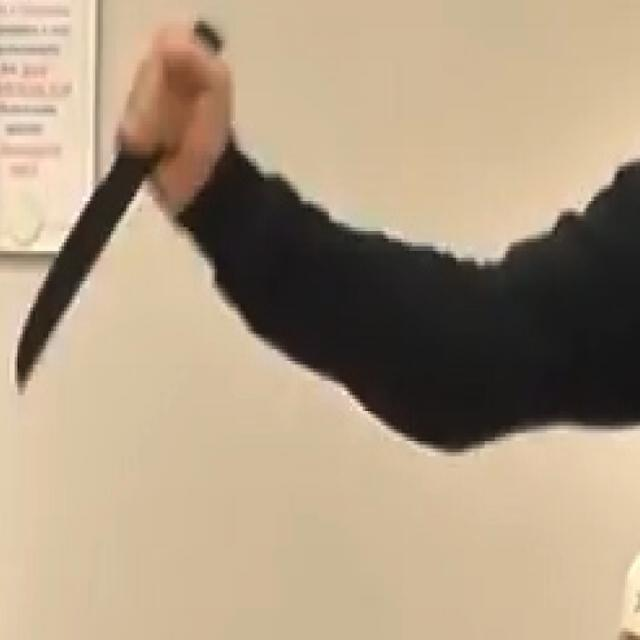suspicion: (5, 9, 636, 462), (9, 152, 150, 398), (194, 13, 228, 55)
